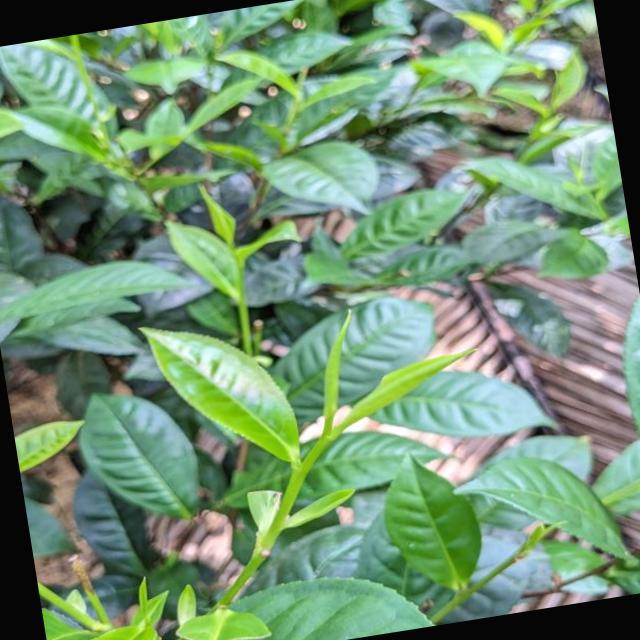Stem: (294, 465, 306, 478), (238, 294, 245, 305)
